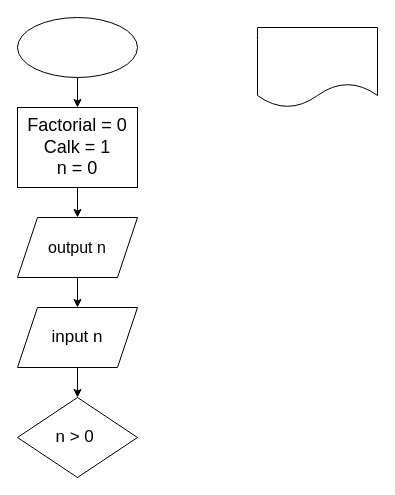
Some shapes in this 395 by 495 pixel diagram are drawn without their labels. Here are the shapes that lost their labels. From the top down, the centre of each, then its label:
At point (77, 47): "start".
At point (317, 67): "Найти факториал числа n".
